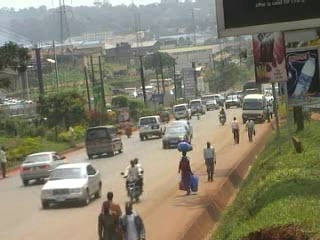Car: (39, 163, 105, 209), (19, 150, 70, 187), (136, 113, 167, 142), (160, 127, 195, 150), (169, 119, 195, 134), (205, 101, 223, 112)
Motorcycle: (119, 169, 145, 204), (122, 122, 134, 139), (217, 113, 228, 127)
